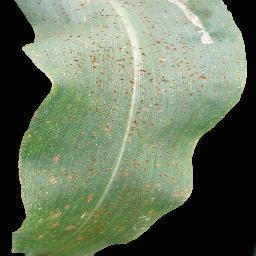Corn_Common_Rust: (18, 69, 247, 256), (11, 0, 256, 75), (0, 162, 13, 164)
